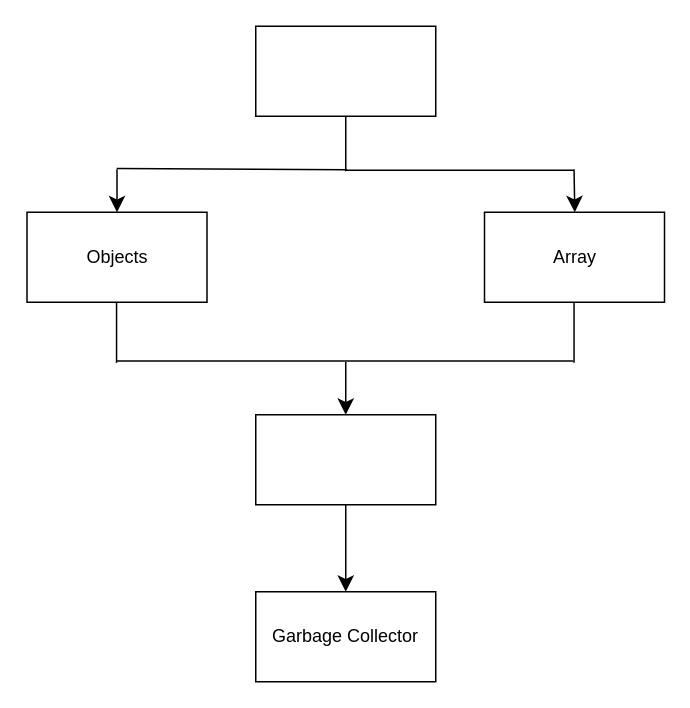
Image size: 690x708. Some labels were removed from this diagram. Each missing label, with the box of its shape:
Heap: (254, 25, 436, 116)
Memory Manager: (254, 413, 436, 505)
